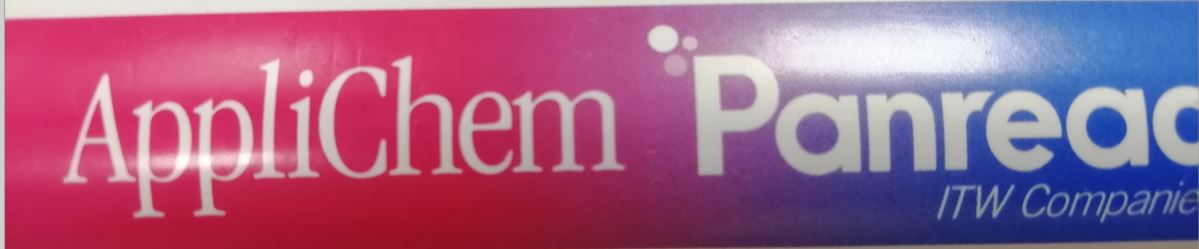ApplichemPanreac: (60, 51, 1199, 226)
